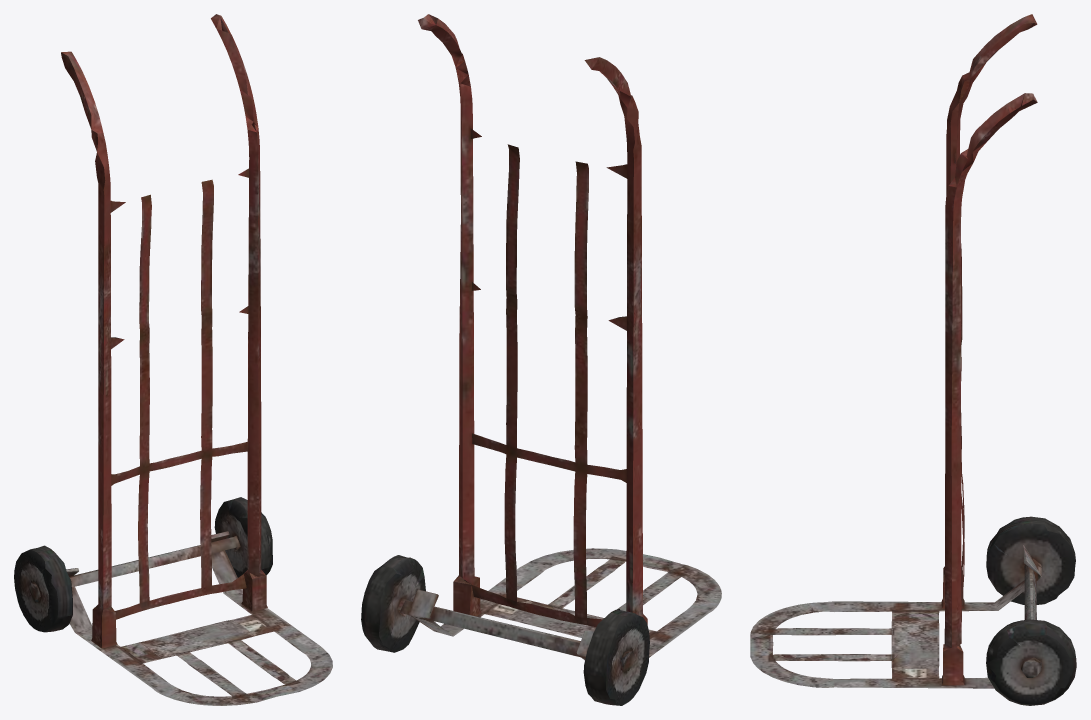
Rendered from hand_truck.glb.
The picture shows the model from 3 angles, left to right: view 1: azimuth 30°, elevation 25°; view 2: azimuth 150°, elevation 25°; view 3: azimuth 270°, elevation 25°; orthographic projection. The views are drawn at different scales.
Parts seen in each view (by area): view 1: mesh; view 2: mesh; view 3: mesh.
Boxes of the visible parts, x1=… form: mesh: x1=14, y1=14, x2=332, y2=705; mesh: x1=361, y1=14, x2=721, y2=705; mesh: x1=750, y1=14, x2=1076, y2=705.
Bounding box in the file's own units: 0.5787 × 1.4 × 0.694.
1 material, 1 textured.
